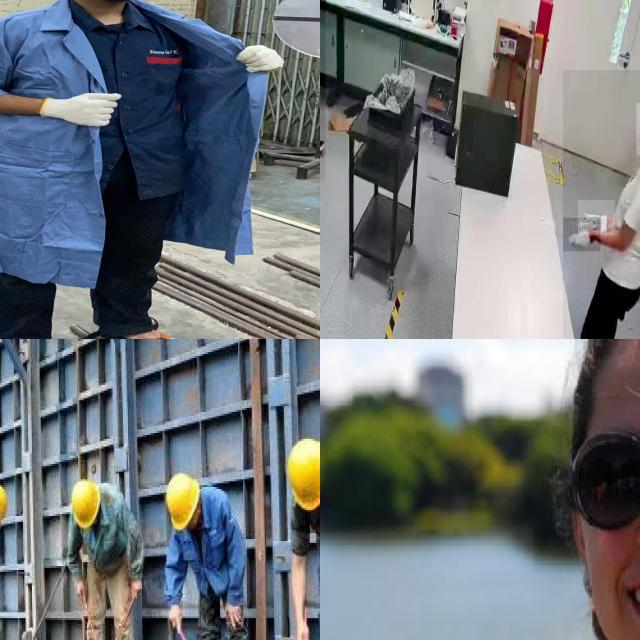face_nomask: (578, 429, 640, 632)
glasses: (574, 415, 640, 527)
hand_glove: (32, 84, 126, 132), (232, 40, 290, 76), (563, 218, 601, 252), (578, 200, 614, 235)
hand_noglove: (124, 573, 147, 599), (165, 601, 185, 629), (222, 599, 243, 625), (69, 578, 90, 601), (291, 625, 313, 640)
head_helmet: (284, 436, 320, 514), (161, 469, 199, 531), (68, 477, 103, 527), (0, 480, 11, 529)
person: (0, 0, 294, 339), (483, 339, 640, 640), (563, 70, 640, 339), (149, 456, 261, 640), (58, 471, 155, 640), (277, 431, 320, 640)
shoes: (320, 123, 326, 155)
